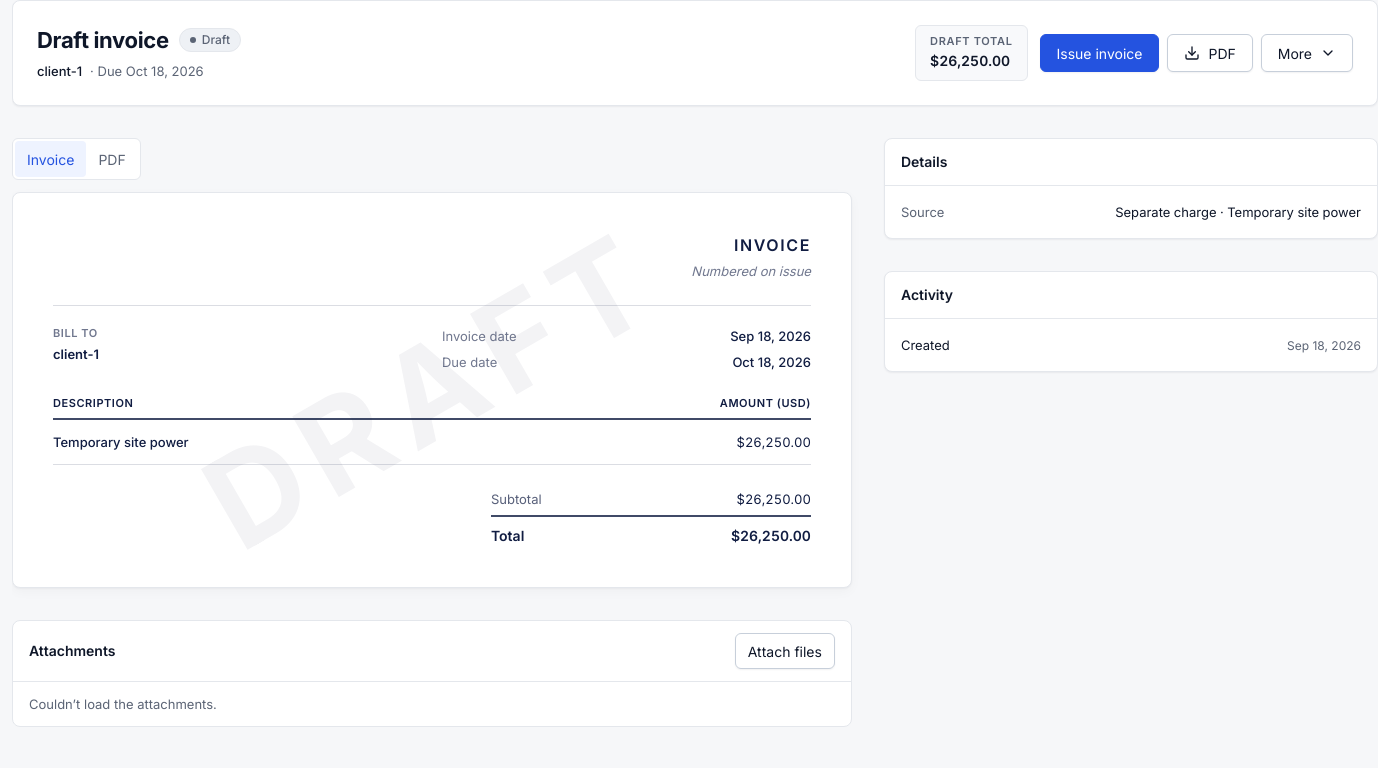
it: InvoiceDetail — state-aware title and totals › shows the draft title, the one Issue action (ADR-046 §2), and "Draft total" (never a collectible balance)
Expected: the heading "Draft invoice" is shown, [37, 25, 169, 55]
Expected: the button "Issue invoice" is shown, [1040, 34, 1159, 72]
Click the button "More". click: (1307, 53)
box: [1261, 34, 1353, 72]
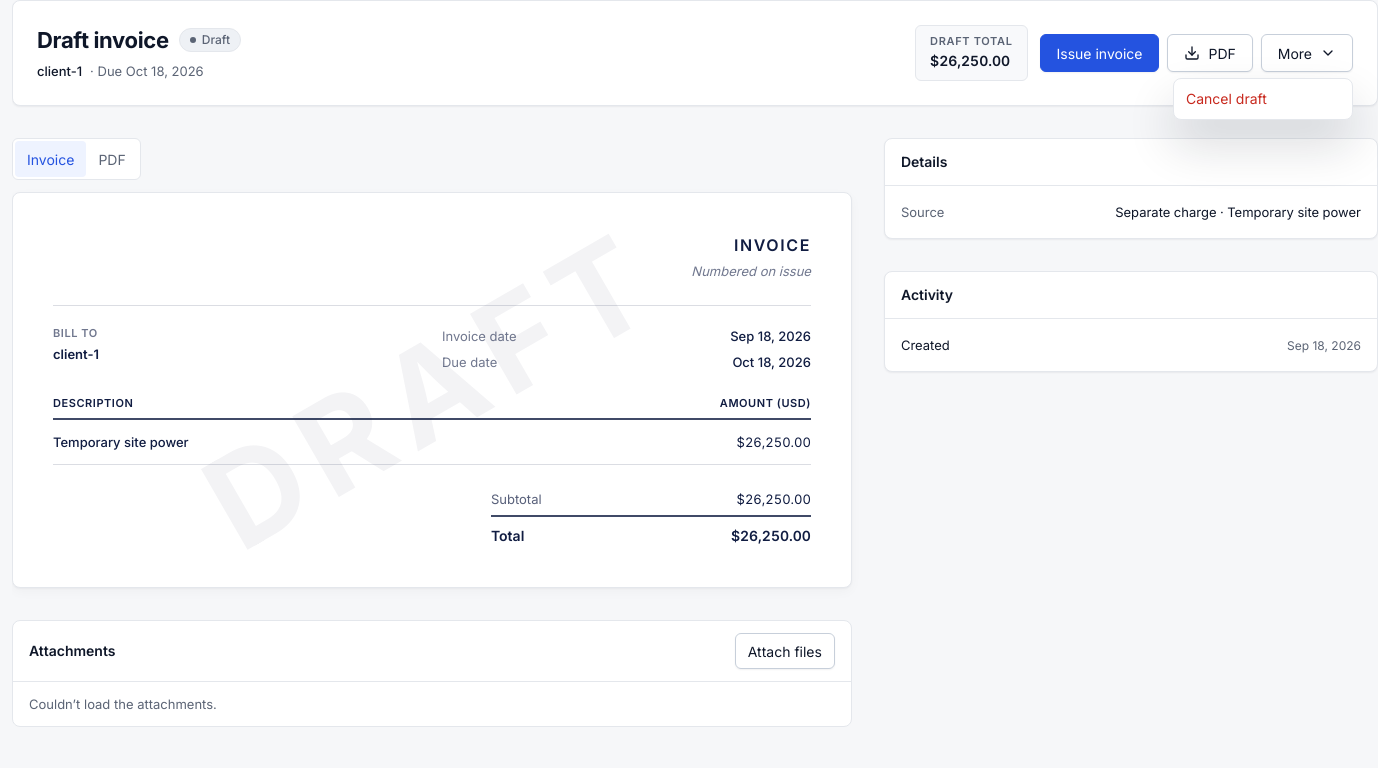
Now the menu item "Cancel draft" is shown, box [1186, 90, 1267, 107]
